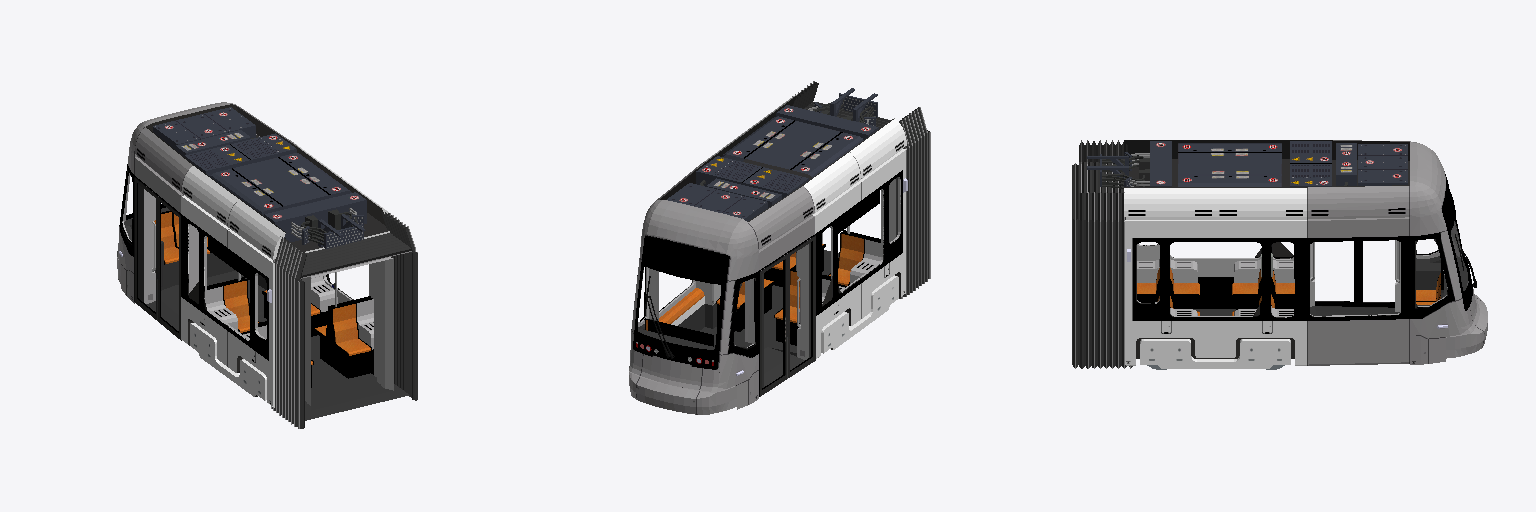
3 renders of one model, left to right at view 1: azimuth 30°, elevation 25°; view 2: azimuth 150°, elevation 25°; view 3: azimuth 270°, elevation 25°, orthographic.
Parts seen in each view (by area): view 1: body, int, garm, d_rr, d_rl; view 2: body, int, garm, d_rr, d_rl; view 3: body, int, garm, d_rl.
Part boxes in pixels (x1,y1,x2,y2): body: (117, 102, 390, 407); int: (122, 173, 380, 402); garm: (271, 212, 417, 428); d_rr: (134, 176, 158, 320); d_rl: (158, 196, 181, 340); body: (629, 88, 906, 414); int: (638, 177, 900, 387); garm: (792, 81, 930, 298); d_rr: (759, 253, 787, 396); d_rl: (787, 235, 815, 377); body: (1087, 140, 1487, 368); int: (1137, 192, 1467, 317); garm: (1072, 140, 1132, 368); d_rl: (1315, 241, 1358, 306).
Size of the model in its own units: 2.39 by 3.42 by 6.8.
Materials: 20 (5 with a texture image).